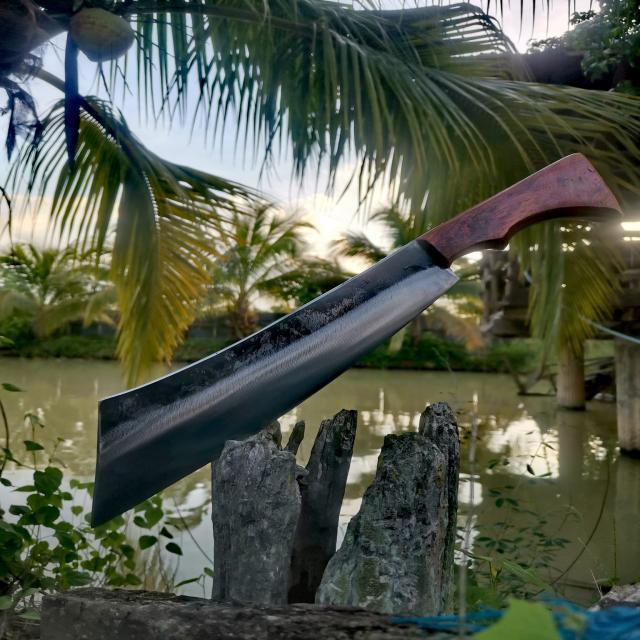eto: (82, 147, 632, 539)
